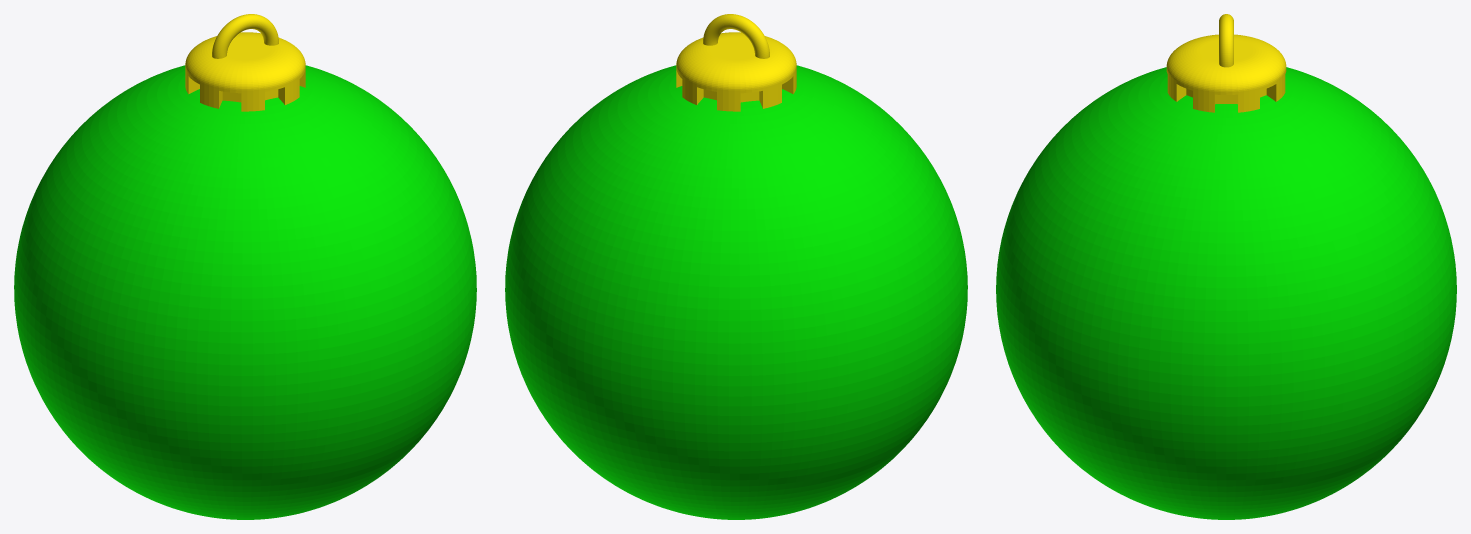
Rendered from Шарик для ёлки (блестящий зеленый).fbx.
3 renders of one model, left to right at view 1: azimuth 30°, elevation 25°; view 2: azimuth 150°, elevation 25°; view 3: azimuth 270°, elevation 25°, orthographic.
Parts seen in each view (by area): view 1: Sphere; view 2: Sphere; view 3: Sphere.
Boxes of the visible parts, box(x1,y1,x2,y2) form: Sphere: box(14, 14, 476, 519); Sphere: box(505, 14, 967, 519); Sphere: box(996, 14, 1456, 519).
Bounding box in the file's own units: 200 × 230 × 200.
